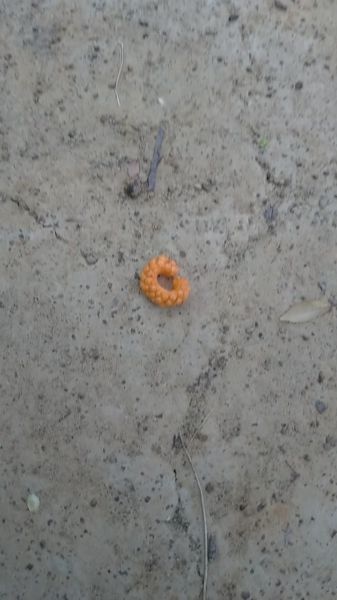eggs: (135, 249, 195, 315)
